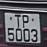0: (22, 28, 31, 44), (15, 28, 23, 43)
3: (31, 28, 39, 44)
5: (7, 27, 16, 43)
P: (21, 14, 30, 29)
T: (14, 14, 22, 29)
